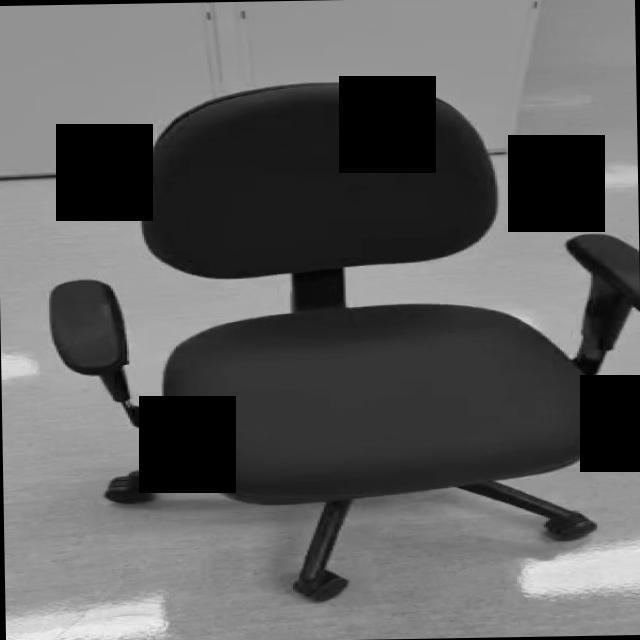chair: (47, 76, 640, 604)
